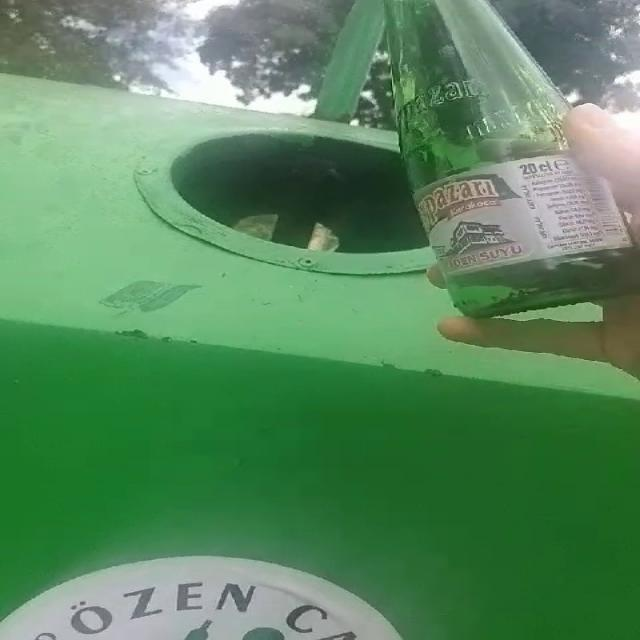glass: (387, 0, 639, 316)
